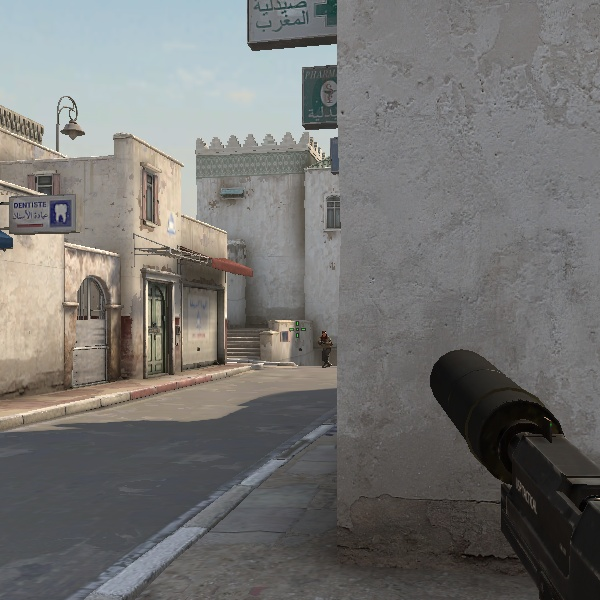t_body: (318, 330, 335, 367)
t_head: (321, 330, 327, 339)
